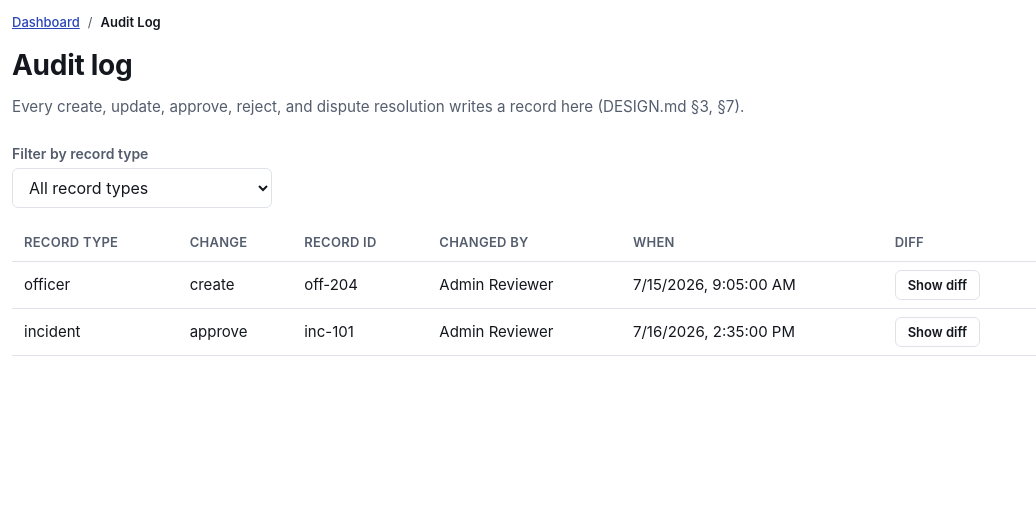
Test: AuditLogPage › expands a diff view on demand
Expected: the text "off-204" is shown, x1=292 y1=261 x2=427 y2=308
Expected: the text "\"firstName\": \"Jordan\"" is not shown
Click the button "Show diff" in the row of "officer" at (937, 285), box x1=895 y1=270 x2=980 y2=300
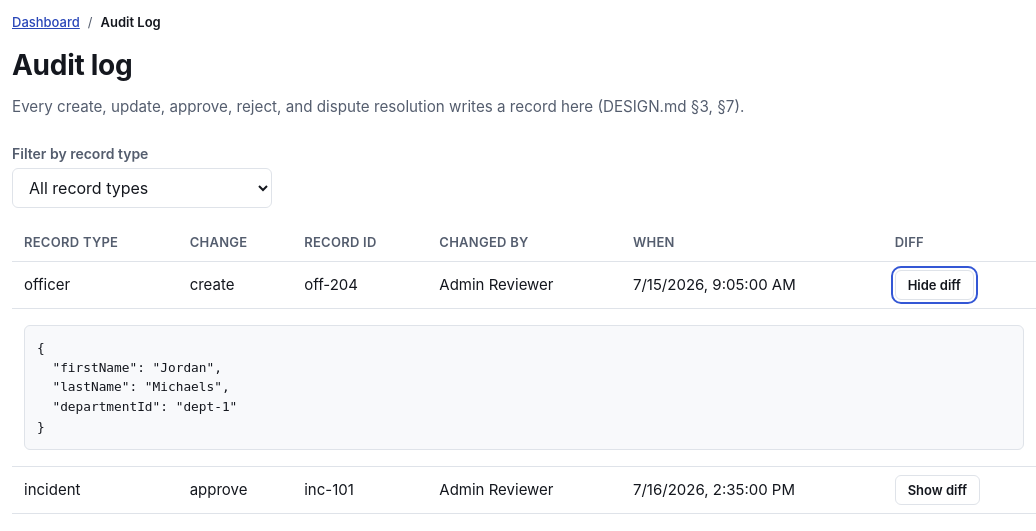
Expected: the text "\"firstName\": \"Jordan\"" is shown, x1=37 y1=340 x2=237 y2=434
